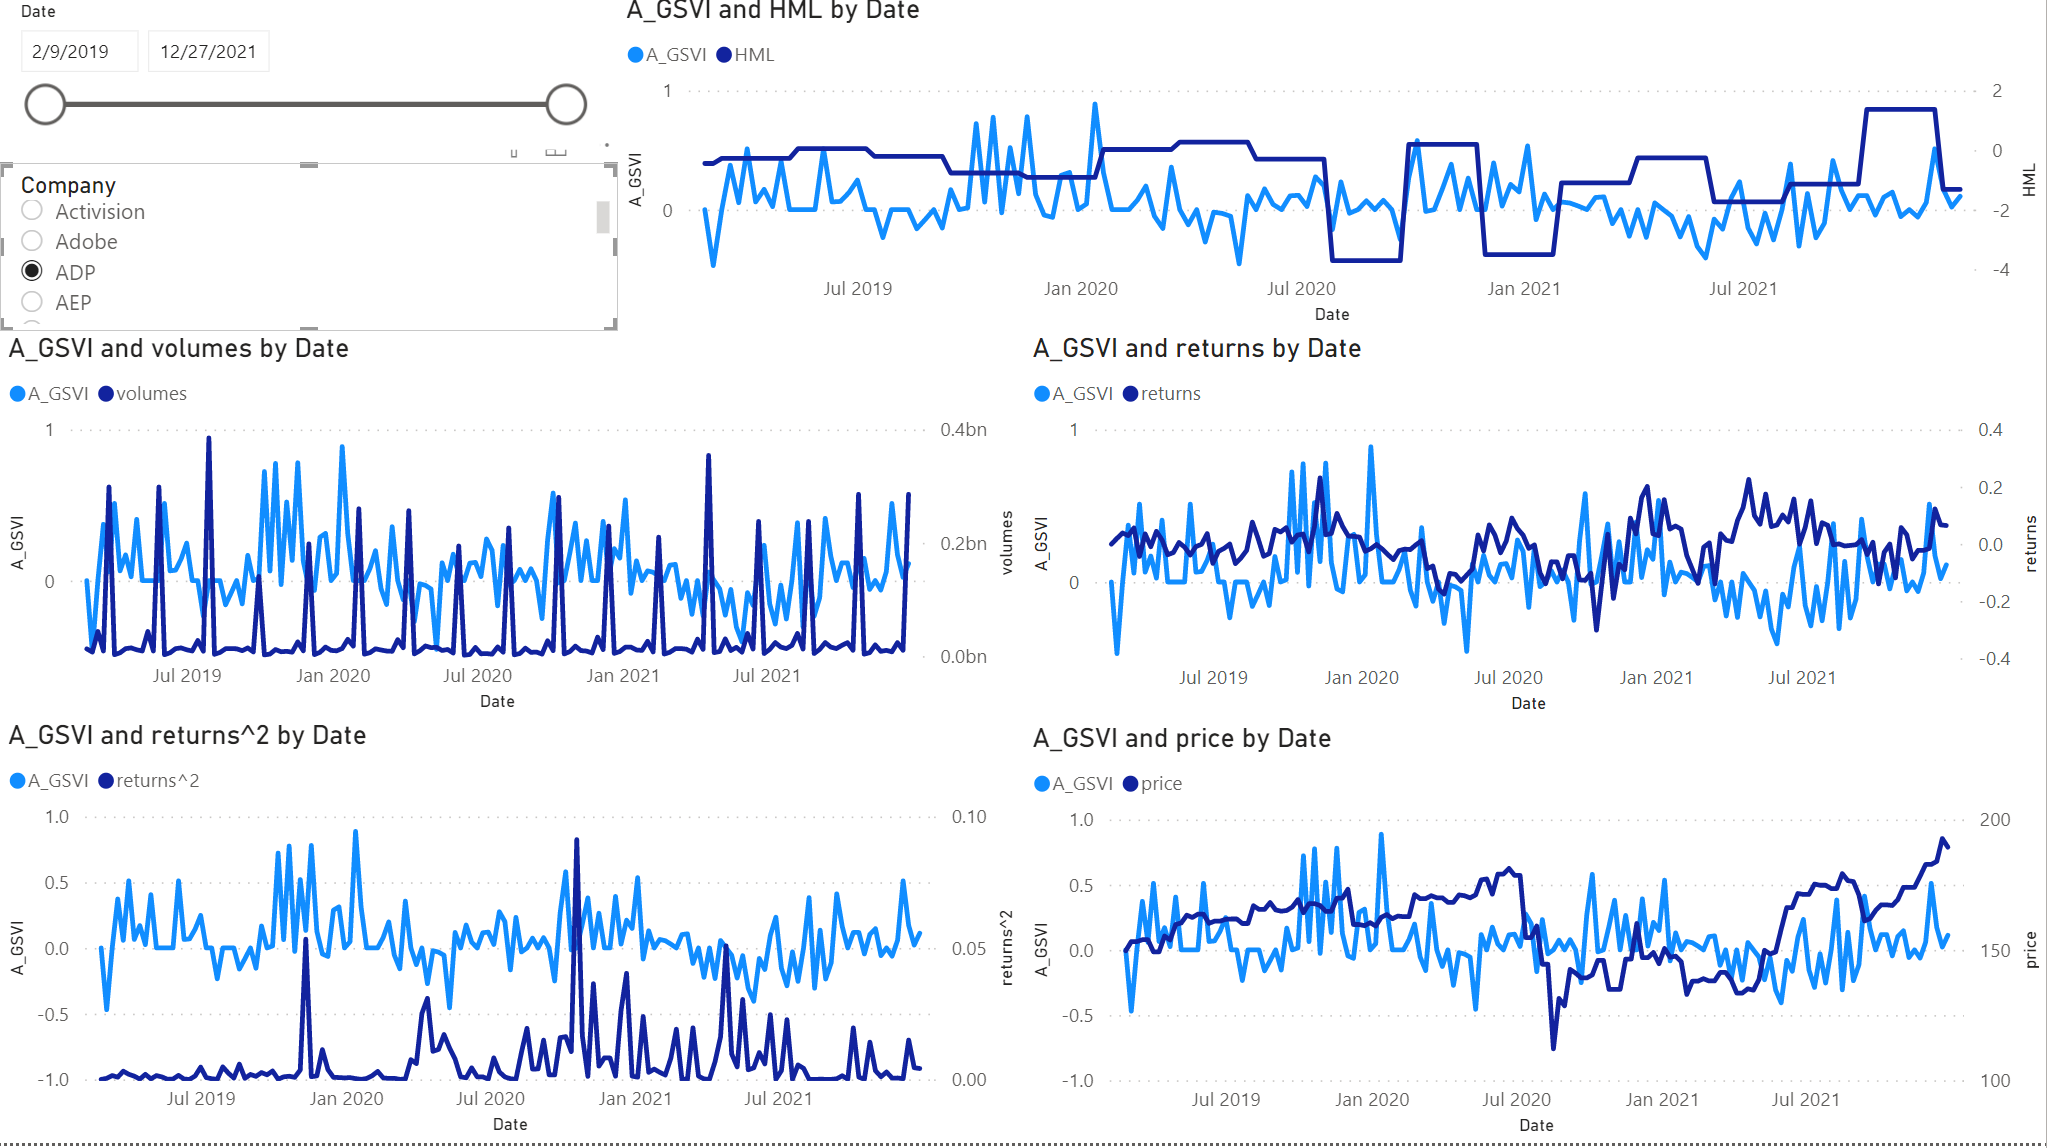

This screenshot's page, from the dashboard's own definition file:
{"tool":"powerbi","page":{"name":"AGSVI","canvas":[1280,720],"ordinal":1},"visuals":[{"type":"slicer","fields":{"Values":["dataset_FM.Keyword"]},"box":[0,106.8,386.3,105.6],"z":0},{"type":"slicer","fields":{"Values":["dataset_FM.Date"]},"box":[0,0,375.5,98.4],"z":1000},{"type":"lineChart","fields":{"Category":["dataset_FM.Date"],"Y2":["Sum(dataset_FM.volumes)"],"Y":["Sum(dataset_FM.A_GSVI)"]},"box":[0,212.3,640.6,242.3],"z":2000},{"type":"lineChart","fields":{"Category":["dataset_FM.Date"],"Y2":["Sum(dataset_FM.returns^2)"],"Y":["Sum(dataset_FM.A_GSVI)"]},"box":[0,454.7,640.6,265.1],"z":3000},{"type":"lineChart","fields":{"Category":["dataset_FM.Date"],"Y2":["Sum(dataset_FM.returns)"],"Y":["Sum(dataset_FM.A_GSVI)"]},"box":[640.6,212.3,639.4,243.5],"z":4000},{"type":"lineChart","fields":{"Category":["dataset_FM.Date"],"Y":["Sum(dataset_FM.A_GSVI)"],"Y2":["Sum(dataset_FM.price)"]},"box":[640.6,455.9,639.4,263.9],"z":5000},{"type":"lineChart","fields":{"Category":["dataset_FM.Date"],"Y2":["Sum(dataset_FM.HML)"],"Y":["Sum(dataset_FM.A_GSVI)"]},"box":[386.3,0,893.7,212.3],"z":6000}]}

Visuals, with their boxes in screenshot pixels (x1, y1, x2, y2), scaled from the page's 1280x720 canvas onto the 2051x1148 screenshot:
slicer - dataset_FM.Keyword: detection(0, 170, 619, 339)
slicer - dataset_FM.Date: detection(0, 0, 602, 157)
lineChart - dataset_FM.Date x Sum(dataset_FM.volumes): detection(0, 339, 1026, 725)
lineChart - dataset_FM.Date x Sum(dataset_FM.returns^2): detection(0, 725, 1026, 1147)
lineChart - dataset_FM.Date x Sum(dataset_FM.returns): detection(1026, 339, 2050, 727)
lineChart - dataset_FM.Date x Sum(dataset_FM.A_GSVI): detection(1026, 727, 2050, 1147)
lineChart - dataset_FM.Date x Sum(dataset_FM.HML): detection(619, 0, 2050, 339)
